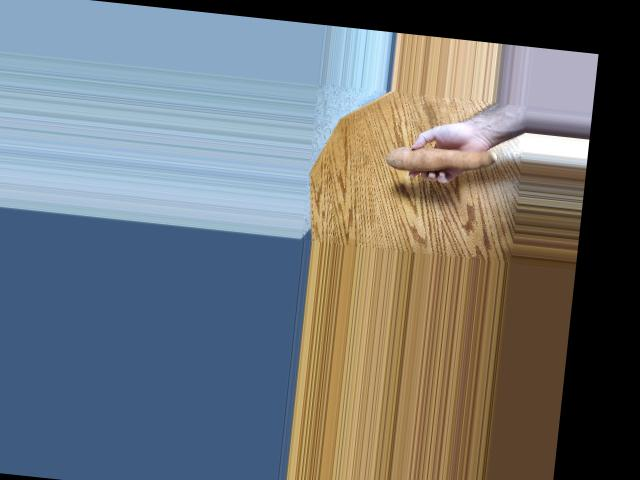sweet_potato: (380, 142, 493, 187)
